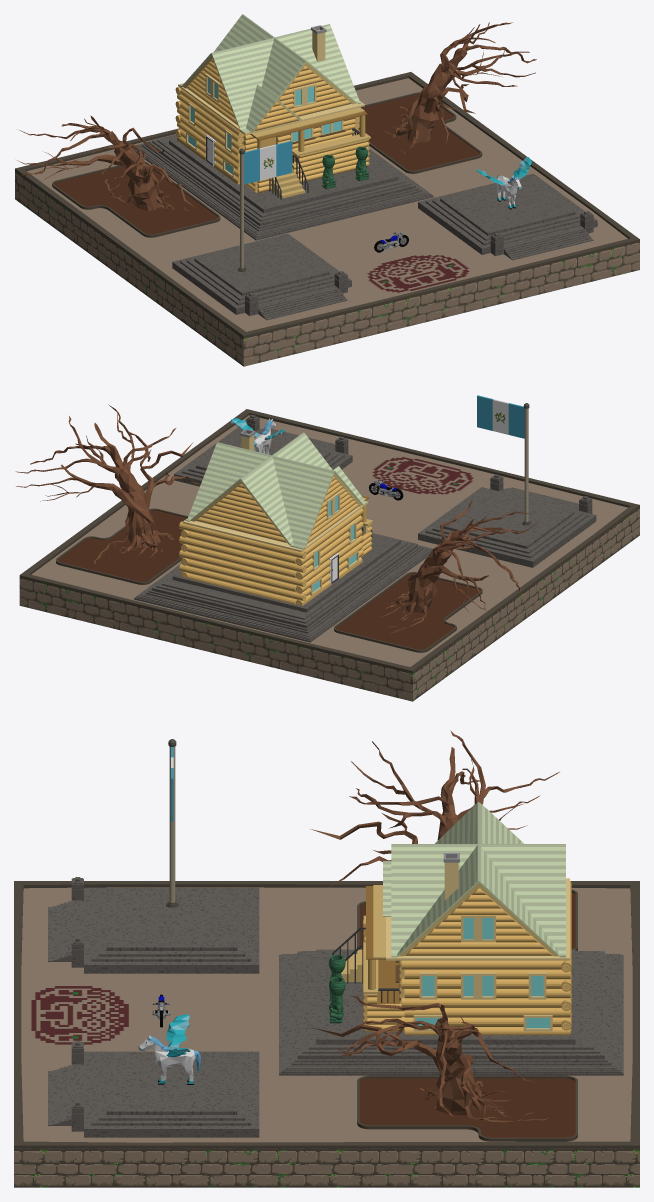
3 renders of one model, top to bottom at view 1: azimuth 30°, elevation 25°; view 2: azimuth 150°, elevation 25°; view 3: azimuth 270°, elevation 25°, orthographic. The views are drawn at different scales.
Visible parts, largest first — view 1: Cube.011, Cube.1516, OBJRANDOM_GUATEMALAN_FLAG, ANIMAL_PEGASO; view 2: Cube.011, Cube.1516, OBJRANDOM_GUATEMALAN_FLAG, ANIMAL_PEGASO; view 3: Cube.011, Cube.1516, ANIMAL_PEGASO, OBJRANDOM_GUATEMALAN_FLAG.
Part boxes in pixels (box(x1,y1,x2,y2)): Cube.011: box(15, 22, 639, 366); Cube.1516: box(175, 14, 370, 199); OBJRANDOM_GUATEMALAN_FLAG: box(237, 141, 292, 271); ANIMAL_PEGASO: box(476, 157, 531, 209); Cube.011: box(15, 404, 639, 701); Cube.1516: box(179, 429, 373, 605); OBJRANDOM_GUATEMALAN_FLAG: box(477, 395, 531, 525); ANIMAL_PEGASO: box(231, 418, 285, 454); Cube.011: box(14, 730, 639, 1187); Cube.1516: box(332, 802, 571, 1035); ANIMAL_PEGASO: box(138, 1014, 200, 1084); OBJRANDOM_GUATEMALAN_FLAG: box(166, 739, 178, 907).
Bounding box in the file's own units: 5099 × 1675 × 4000.
Materials: 40 (6 with a texture image).
